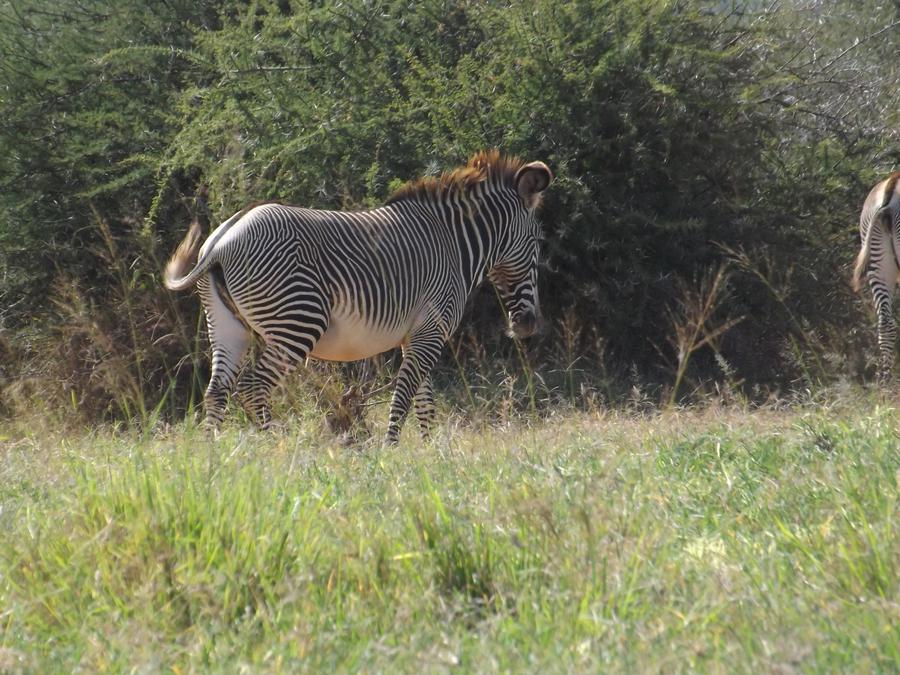zebra_grevys: (208, 195, 467, 327)
